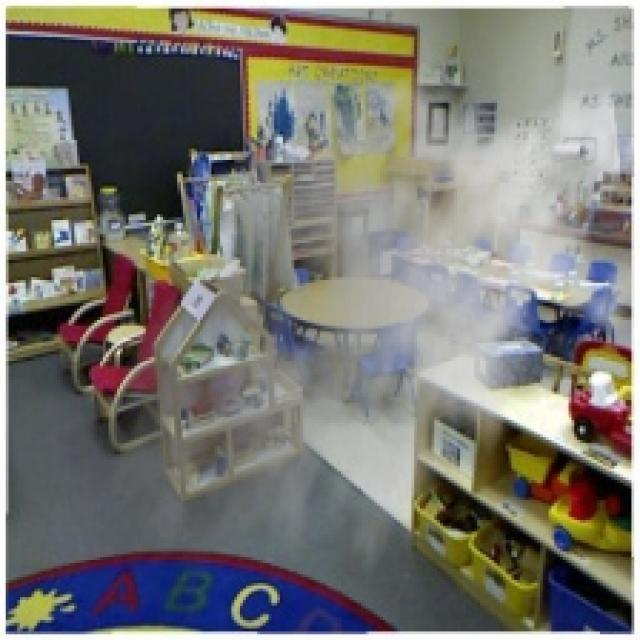Smoke: (102, 46, 638, 612)
